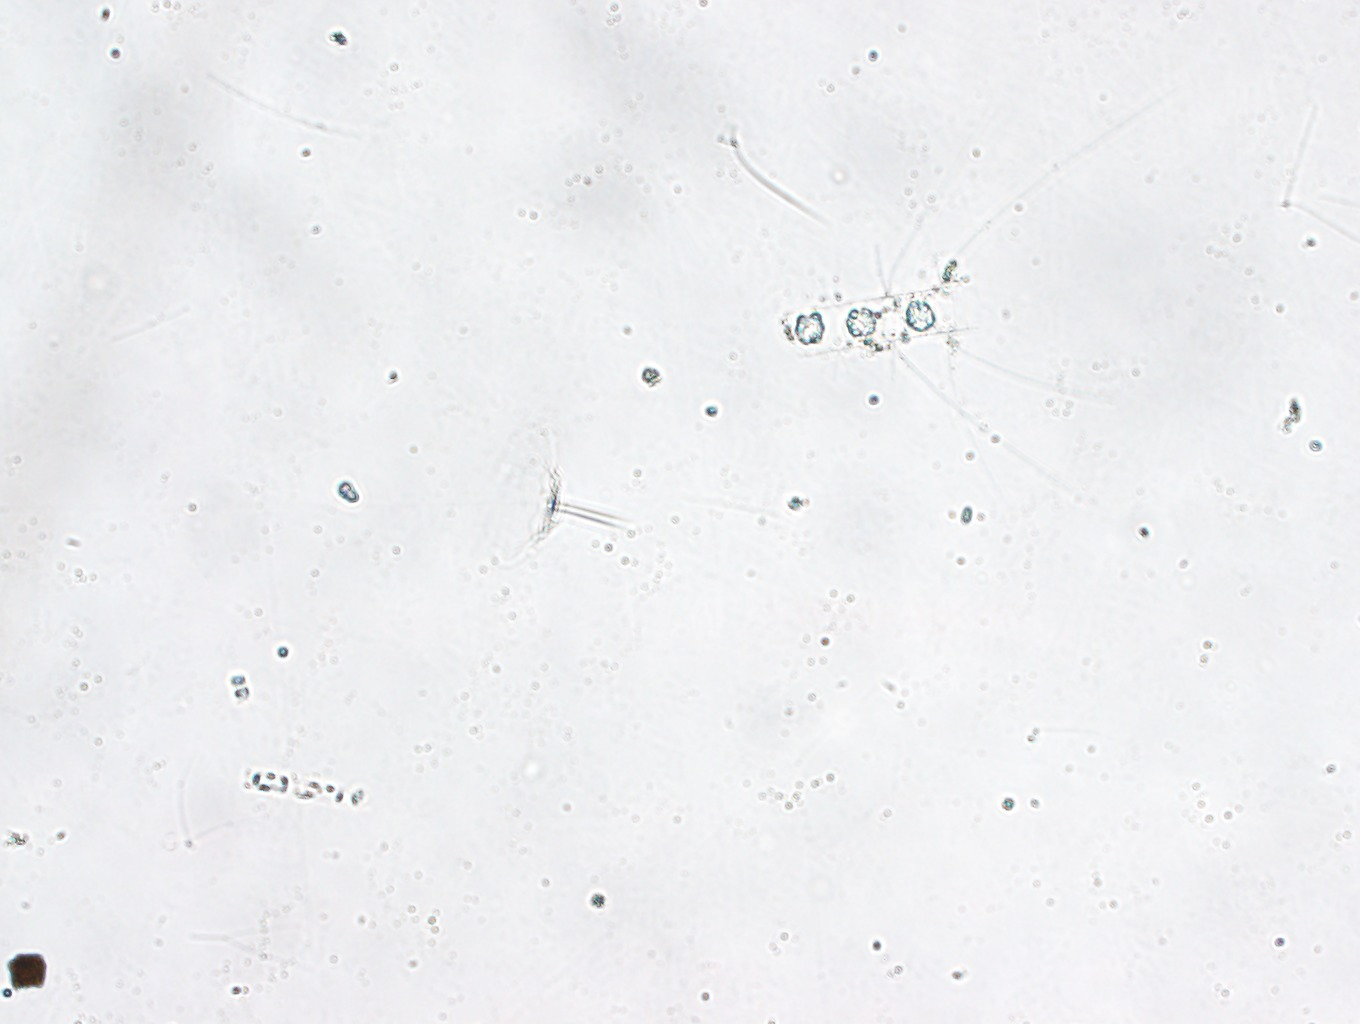chaetoceros: (778, 94, 1162, 507)
